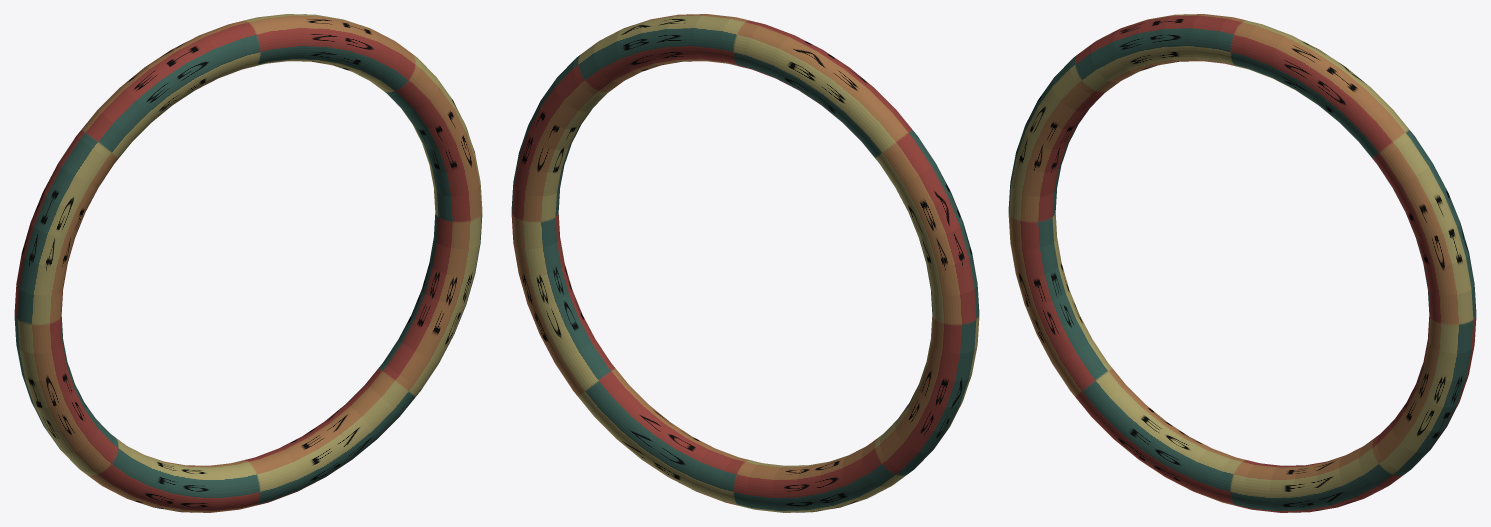
File: texture_torus_R20_r1.glb
The picture shows the model from 3 angles, left to right: view 1: azimuth 30°, elevation 25°; view 2: azimuth 150°, elevation 25°; view 3: azimuth 330°, elevation 25°; orthographic projection.
Visible parts, largest first — view 1: world; view 2: world; view 3: world.
Part boxes in pixels (box(x1,y1,x2,y2)): world: box(14, 14, 482, 512); world: box(511, 14, 979, 512); world: box(1008, 14, 1476, 512).
Size of the model in its own units: 25.6 by 25.55 by 2.26.
1 material, 1 textured.
